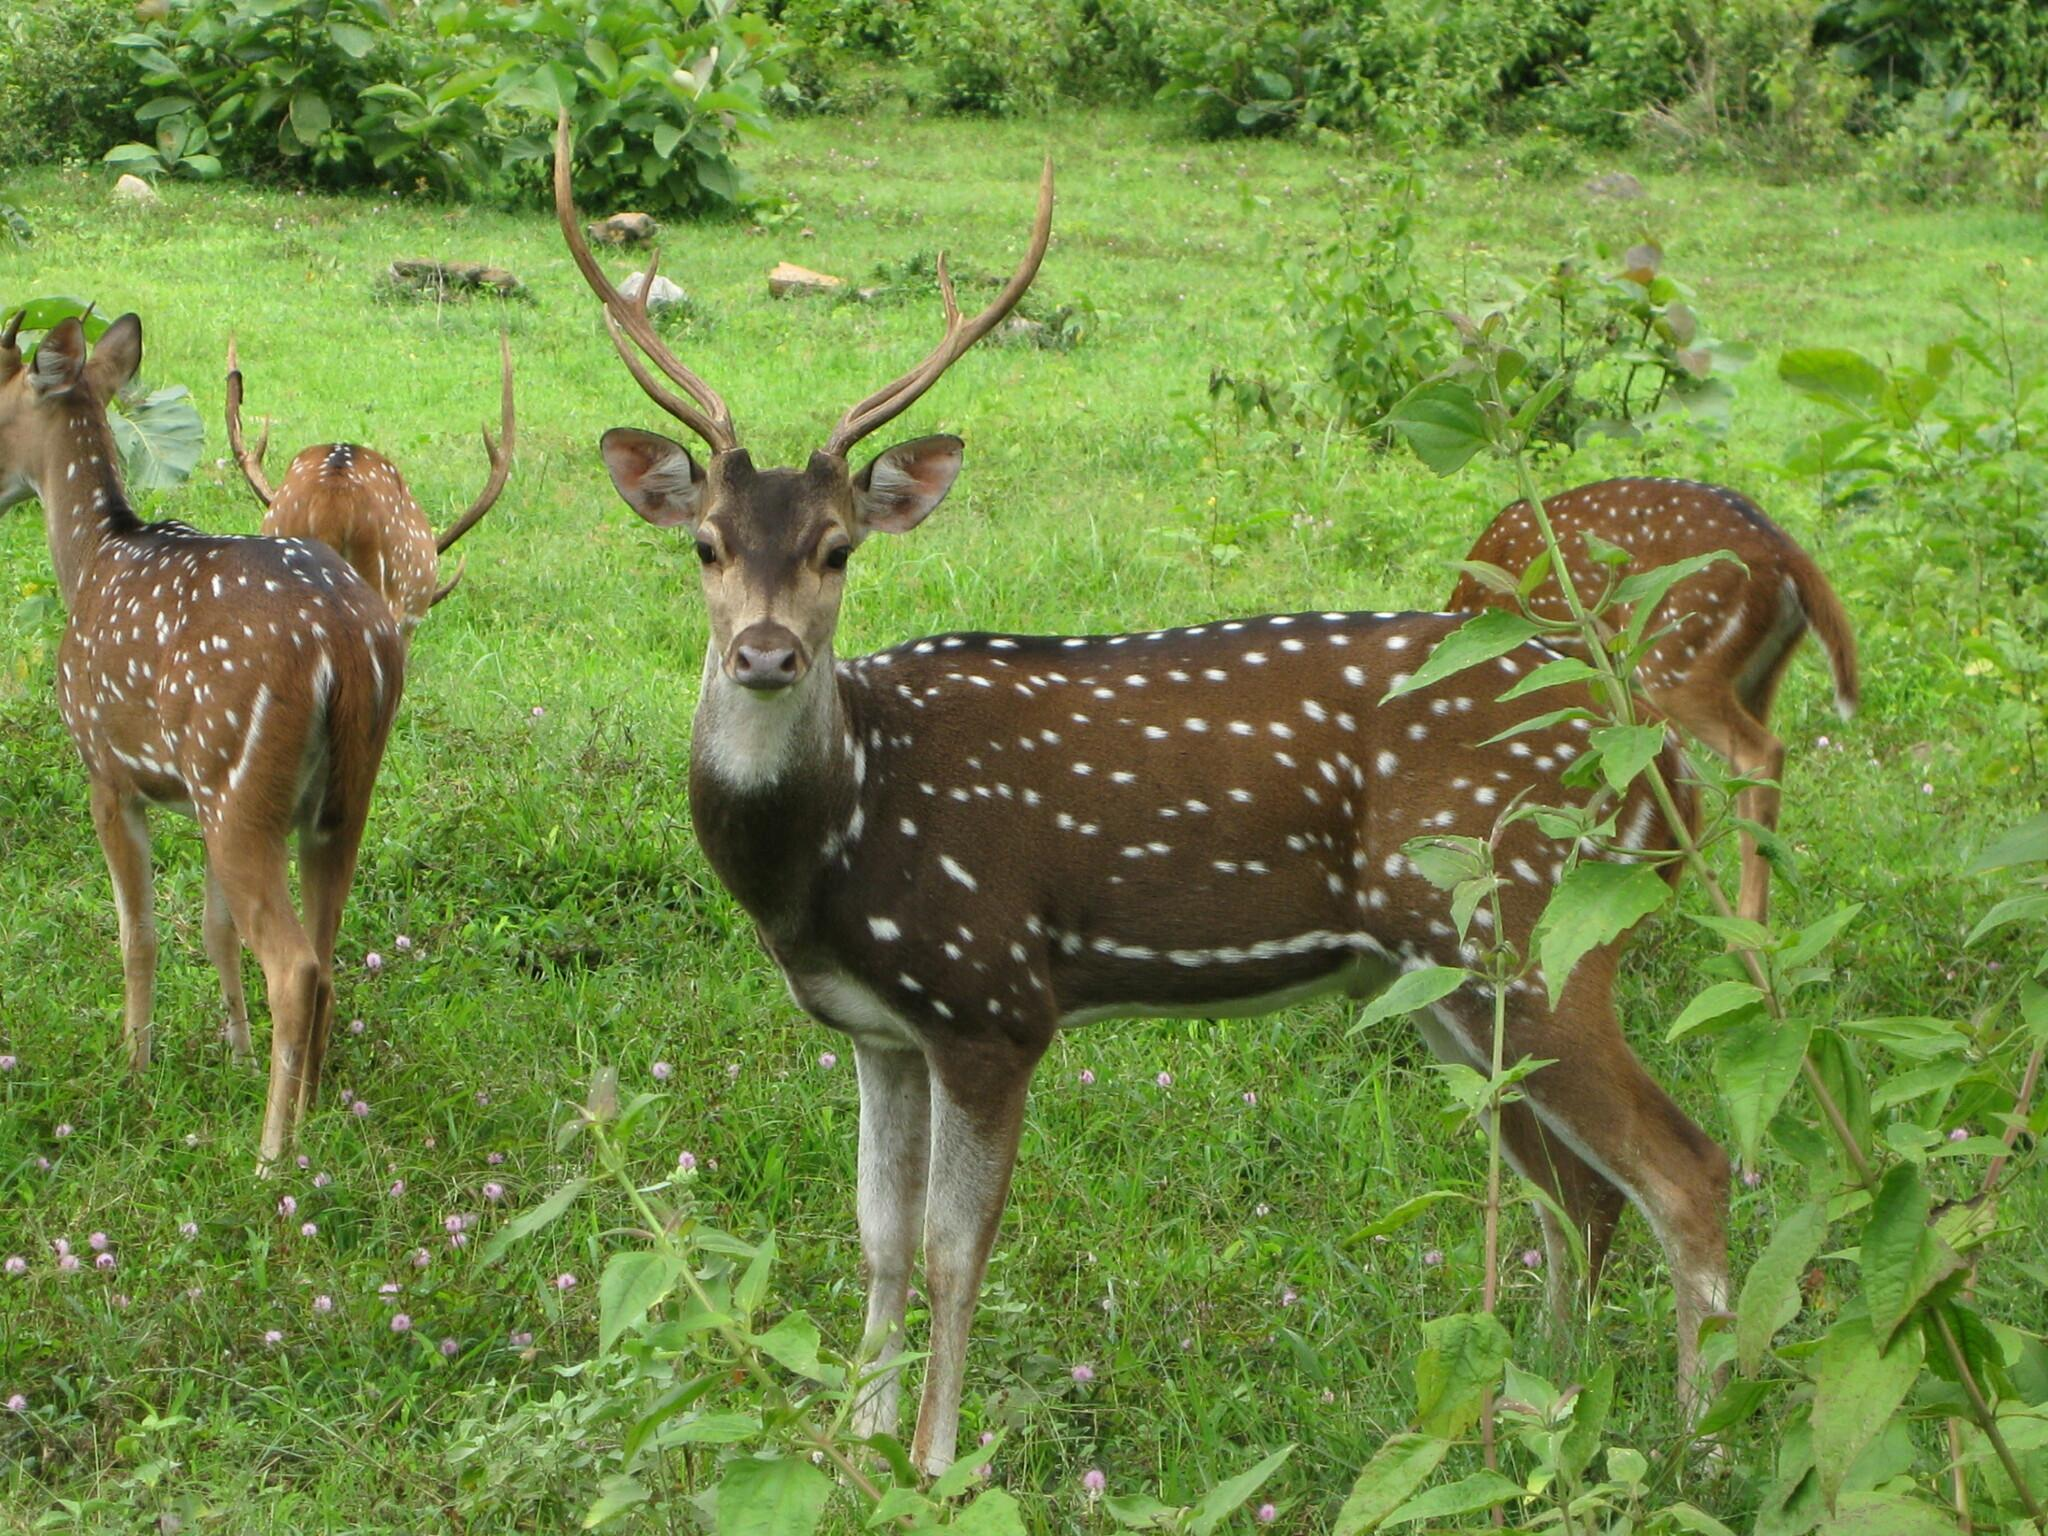Deer: (555, 116, 1584, 1471), (0, 313, 405, 1162), (226, 336, 514, 624)
